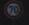Speed Limit -70-: (0, 0, 28, 24)
